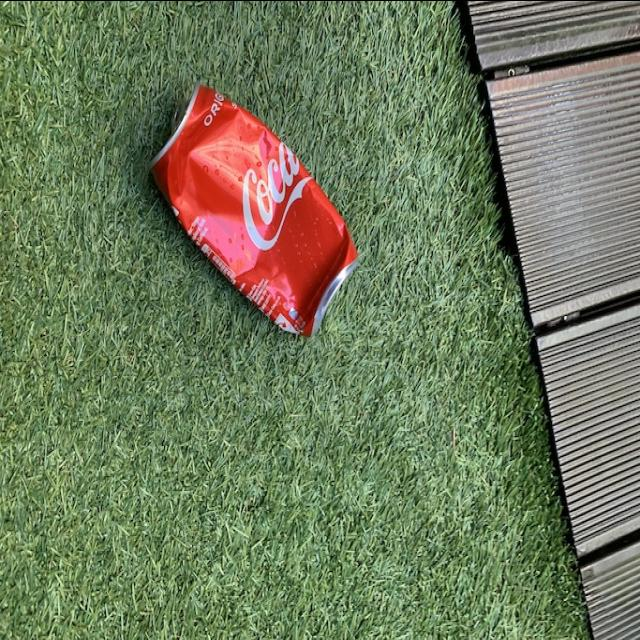litter: (146, 76, 366, 342)
